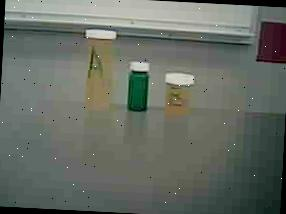Bottle A: (80, 26, 123, 118)
Bottle B: (158, 69, 202, 120)
Bottle C: (124, 56, 156, 115)
